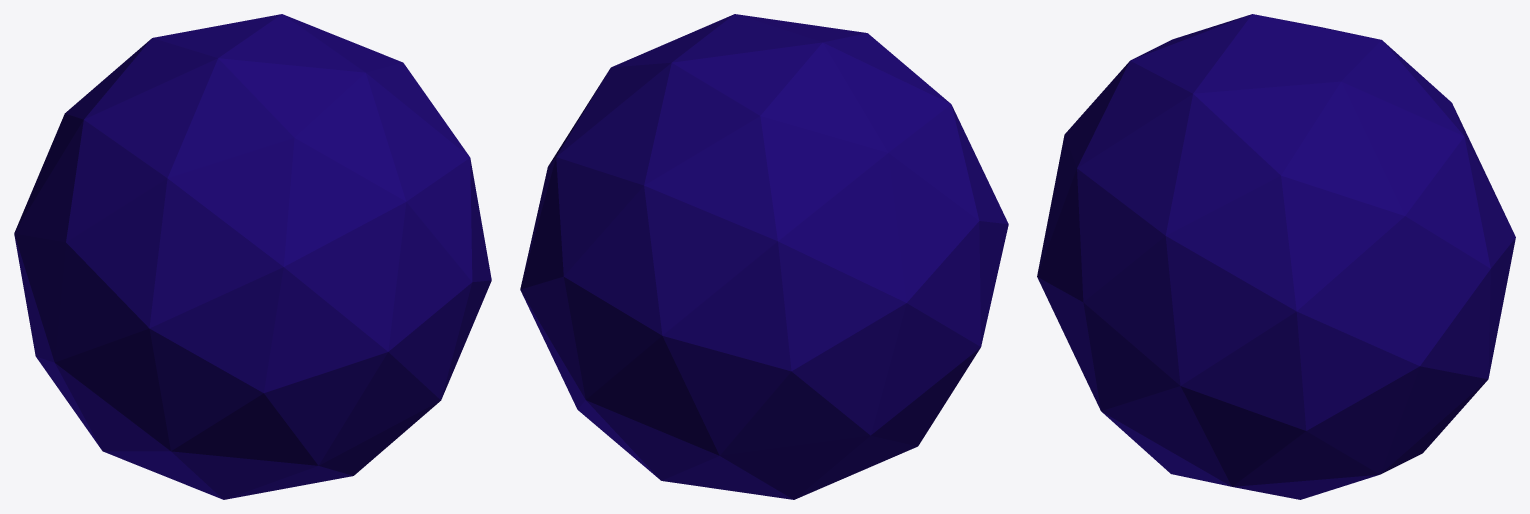
The picture shows the model from 3 angles, left to right: view 1: azimuth 30°, elevation 25°; view 2: azimuth 150°, elevation 25°; view 3: azimuth 270°, elevation 25°; orthographic projection.
Parts seen in each view (by area): view 1: Icosphere; view 2: Icosphere; view 3: Icosphere.
Part boxes in pixels (left/top/right/bottom): Icosphere: left=14, top=14, right=491, bottom=499; Icosphere: left=520, top=14, right=1008, bottom=499; Icosphere: left=1037, top=14, right=1515, bottom=499.
Bounding box in the file's own units: 0.0349 × 0.035 × 0.0345.
